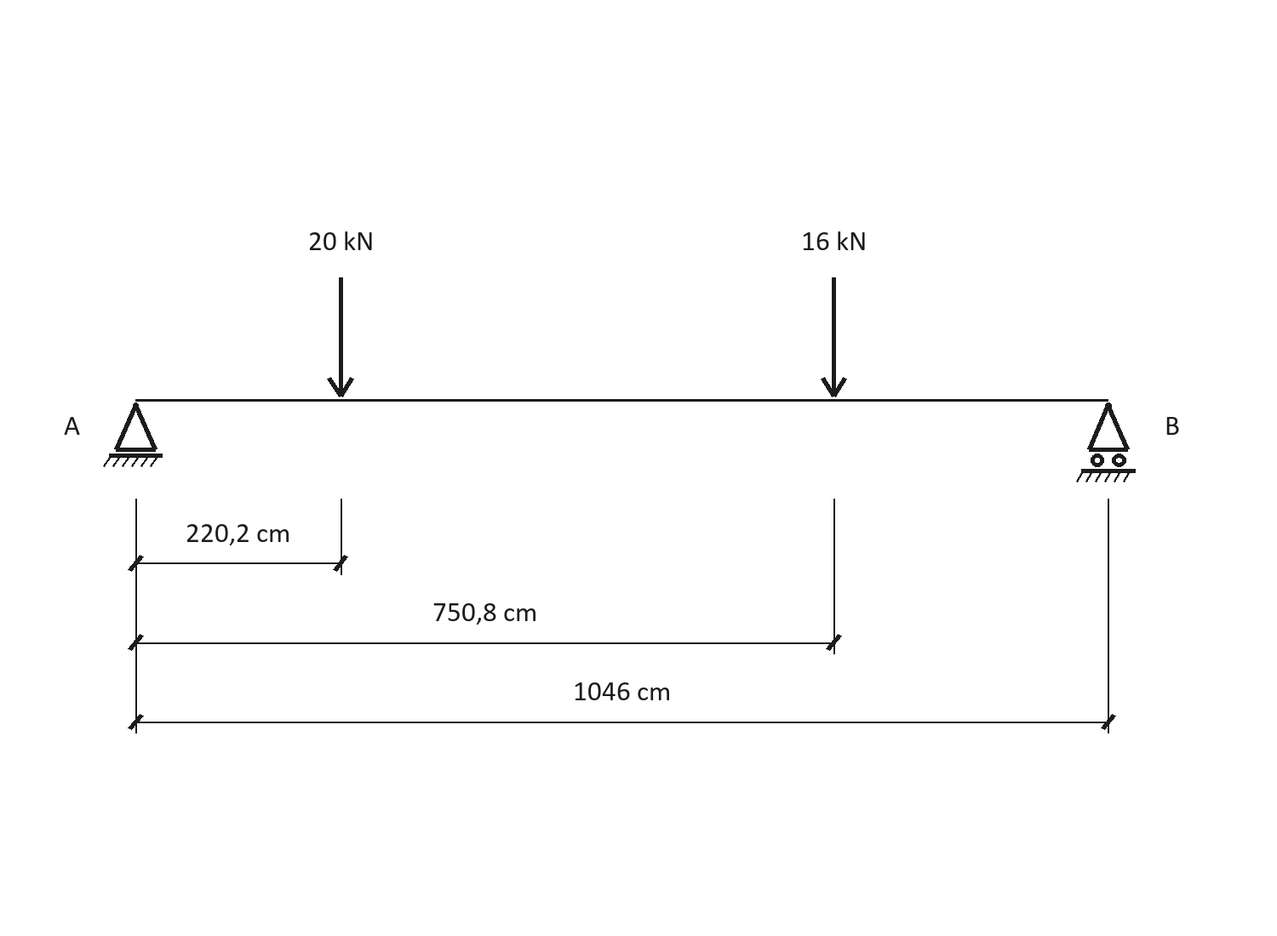pin_support: (103, 402, 163, 467)
point_load: (327, 277, 354, 397), (821, 277, 847, 397)
roller_support: (1076, 402, 1136, 482)
